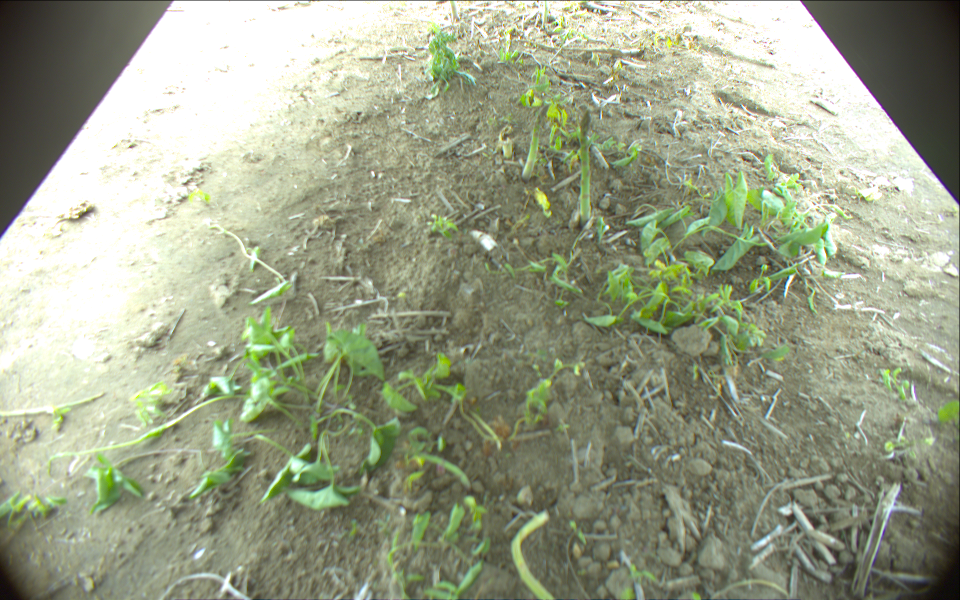aspa: (509, 511, 558, 600), (520, 106, 547, 180), (576, 111, 592, 229), (500, 127, 513, 158), (538, 1, 549, 30), (450, 1, 458, 21)
